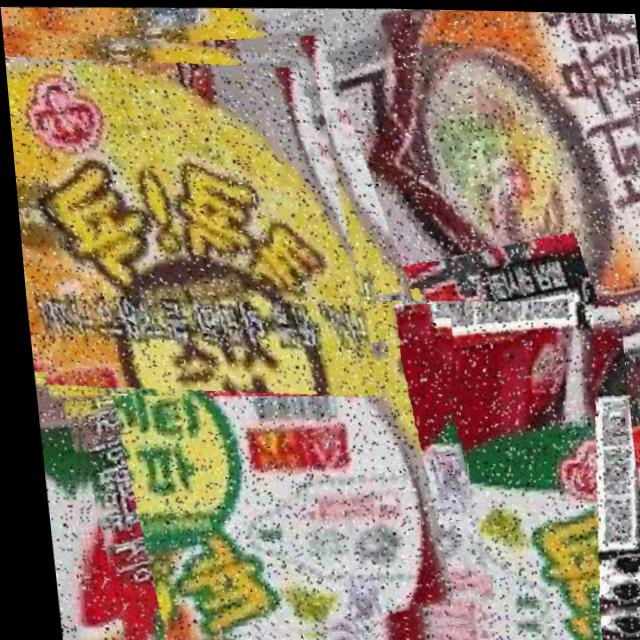Miscellaneous: (198, 4, 640, 358), (48, 293, 472, 640), (1, 12, 380, 399), (268, 291, 640, 640)
